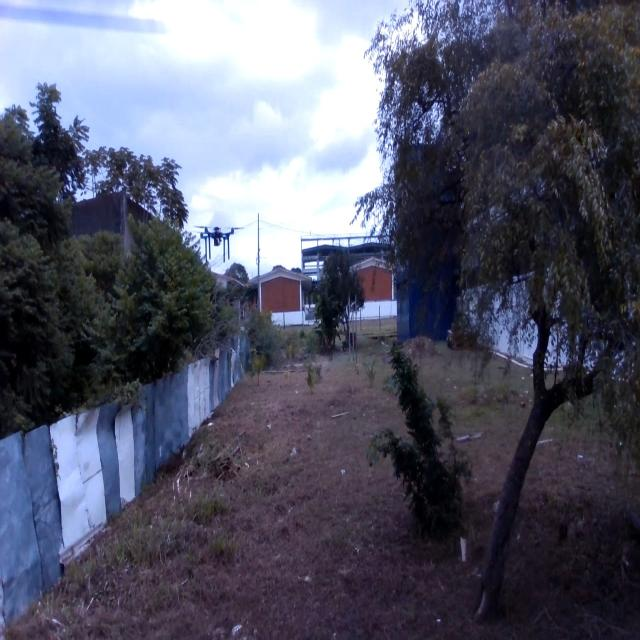-uav-: (192, 210, 248, 267)
